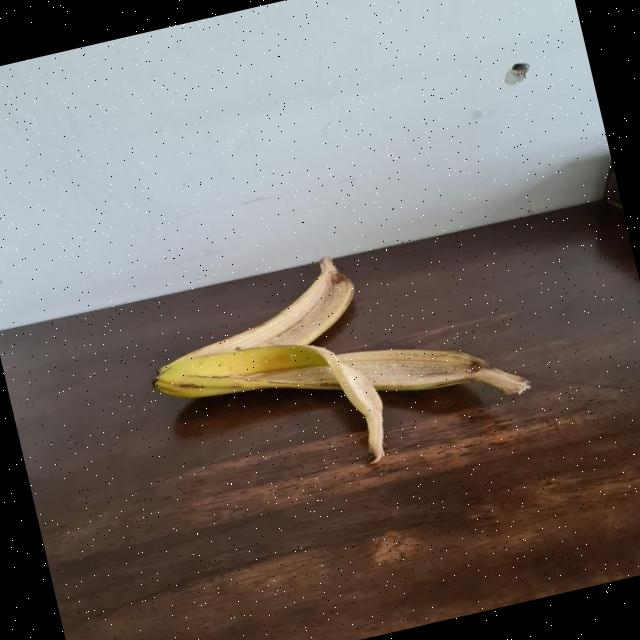banana-peel: (146, 280, 540, 507), (138, 250, 365, 380)
